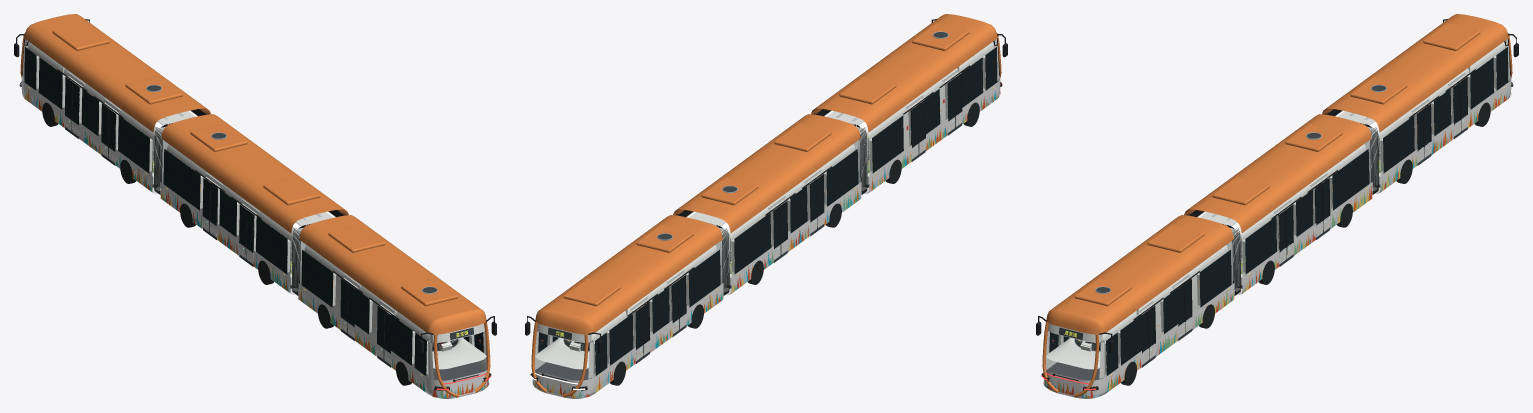
The model's file is art.glb.
The picture shows the model from 3 angles, left to right: view 1: azimuth 30°, elevation 25°; view 2: azimuth 150°, elevation 25°; view 3: azimuth 330°, elevation 25°; orthographic projection.
Parts seen in each view (by area): view 1: section_rear_body_orange, section_front_body_orange, section_mid_body_orange, section_front_glass, section_mid_glass, section_rear_glass, cockpit_section_rear_pearl, section_rear_body_white, passenger_interior_1_pearl, passenger_interior_0_pearl, passenger_interior_2_pearl, section_front_body_white (+10 smaller); view 2: section_front_body_orange, section_rear_body_orange, section_mid_body_orange, section_front_glass, section_mid_glass, section_rear_glass, cockpit_section_front_pearl, section_front_body_white, passenger_interior_1_pearl, passenger_interior_2_pearl, section_rear_body_white, passenger_interior_0_pearl (+10 smaller); view 3: section_rear_body_orange, section_front_body_orange, section_mid_body_orange, section_front_glass, section_mid_glass, section_rear_glass, cockpit_section_rear_pearl, section_rear_body_white, passenger_interior_1_pearl, passenger_interior_0_pearl, passenger_interior_2_pearl, section_front_body_white (+10 smaller).
Part boxes in pixels (x1,y1,x2,y2): section_rear_body_orange: (299, 215, 490, 397); section_front_body_orange: (20, 14, 210, 132); section_mid_body_orange: (161, 114, 348, 233); section_front_glass: (22, 41, 198, 173); section_mid_glass: (163, 149, 335, 274); section_rear_glass: (301, 250, 483, 375); cockpit_section_rear_pearl: (394, 309, 486, 378); section_rear_body_white: (298, 283, 488, 398); passenger_interior_1_pearl: (166, 144, 335, 285); passenger_interior_0_pearl: (62, 68, 197, 183); passenger_interior_2_pearl: (304, 245, 396, 339); section_front_body_white: (21, 76, 160, 193); section_front_body_orange: (531, 215, 722, 397); section_rear_body_orange: (811, 14, 1001, 132); section_mid_body_orange: (673, 114, 860, 233); section_front_glass: (538, 250, 720, 375); section_mid_glass: (686, 149, 858, 274); section_rear_glass: (823, 41, 999, 173); cockpit_section_front_pearl: (535, 309, 627, 378); section_front_body_white: (533, 283, 723, 398); passenger_interior_1_pearl: (686, 144, 855, 285); passenger_interior_2_pearl: (824, 68, 960, 183); section_rear_body_white: (862, 76, 1000, 193); passenger_interior_0_pearl: (628, 245, 717, 348); section_rear_body_orange: (1042, 215, 1233, 397); section_front_body_orange: (1322, 14, 1512, 132); section_mid_body_orange: (1184, 114, 1371, 233); section_front_glass: (1334, 41, 1510, 173); section_mid_glass: (1197, 149, 1369, 274); section_rear_glass: (1049, 250, 1231, 375); cockpit_section_rear_pearl: (1046, 309, 1138, 378); section_rear_body_white: (1044, 283, 1234, 398); passenger_interior_1_pearl: (1197, 144, 1366, 285); passenger_interior_0_pearl: (1335, 68, 1470, 183); passenger_interior_2_pearl: (1136, 245, 1228, 339); section_front_body_white: (1372, 76, 1511, 193).
Bounding box in the file's own units: 3.37 × 3.64 × 32.59.
40 materials, 1 textured.
